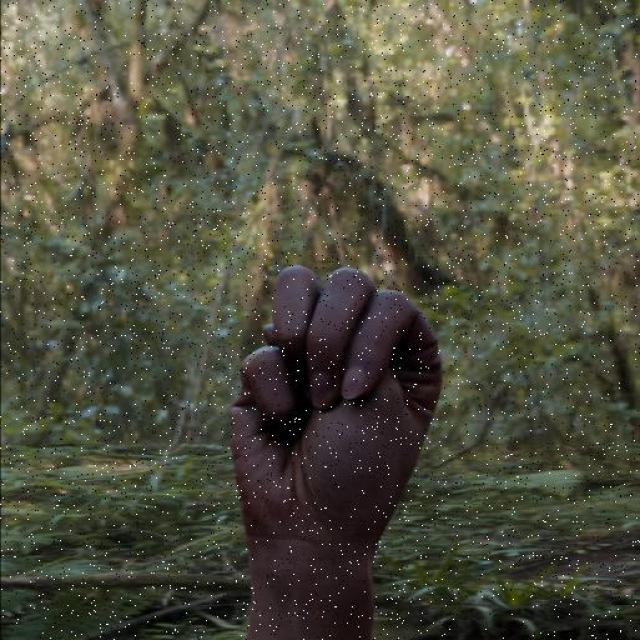M: (225, 260, 444, 550)
